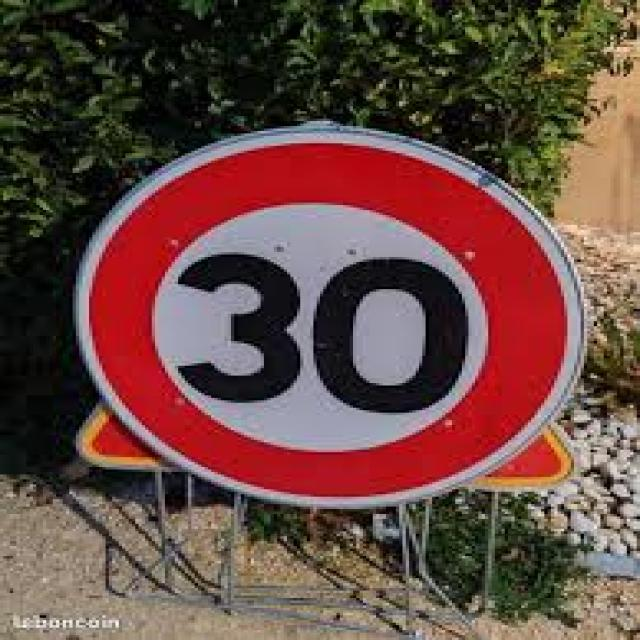speed_30: (72, 123, 590, 512)
